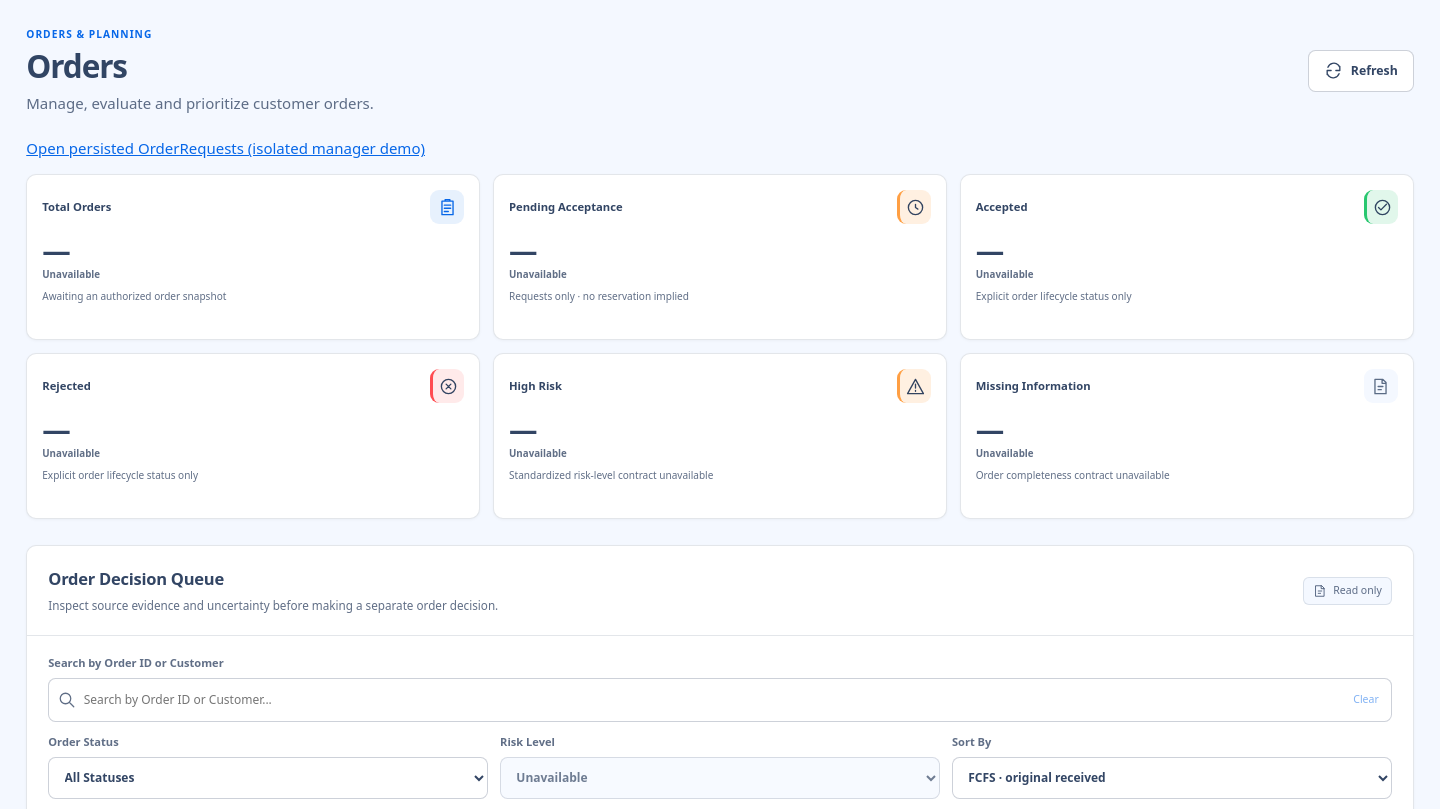
Test: Order Decision Queue › keeps controls usable without fabricating results while the source is unavailable
Type "demo" into the search field labelled "Search by Order ID or Customer" at (713,700), box [84,679,1343,721]
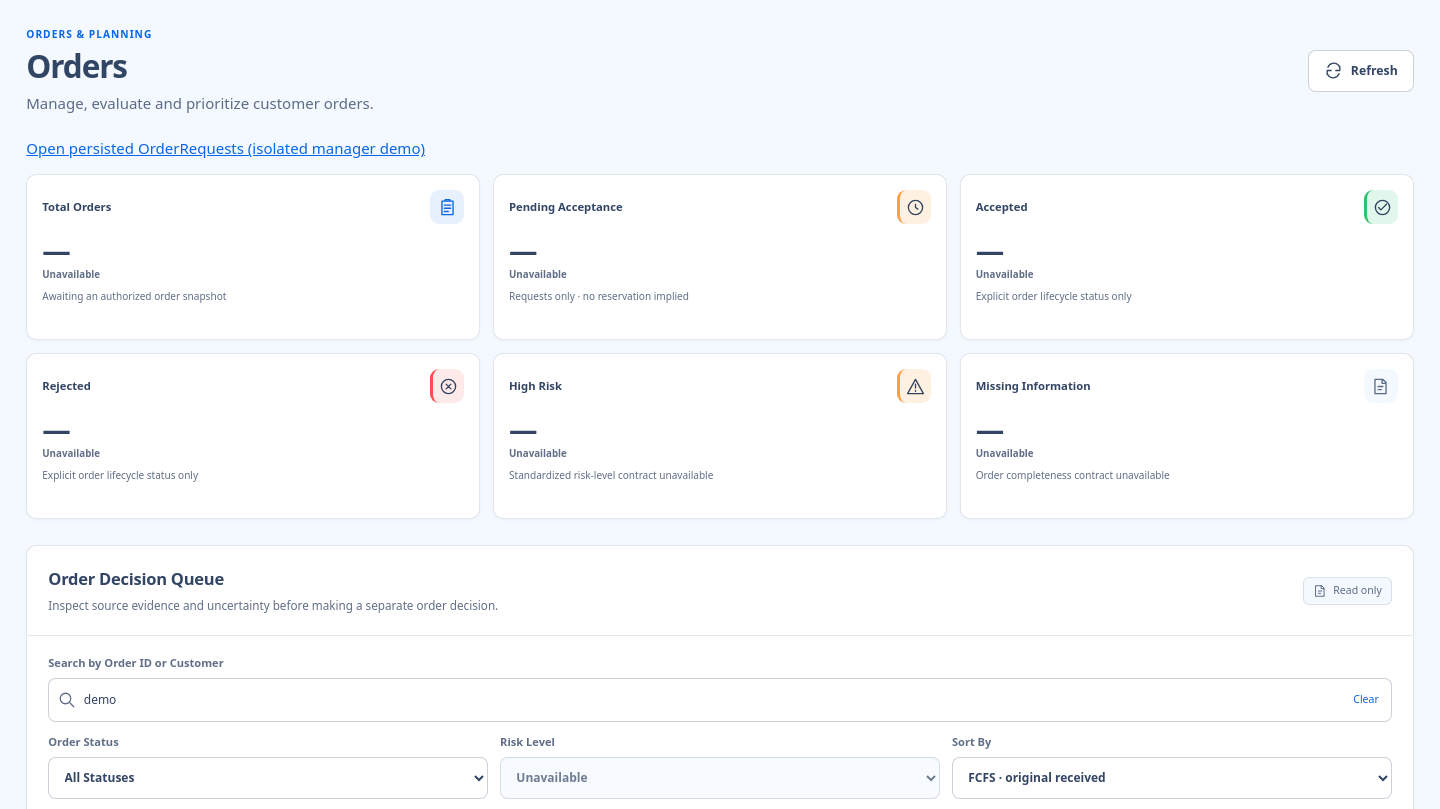
Select "Accepted" in the dropdown labelled "Order Status" at (268,778), box [48,757,488,799]
(page scrolled)
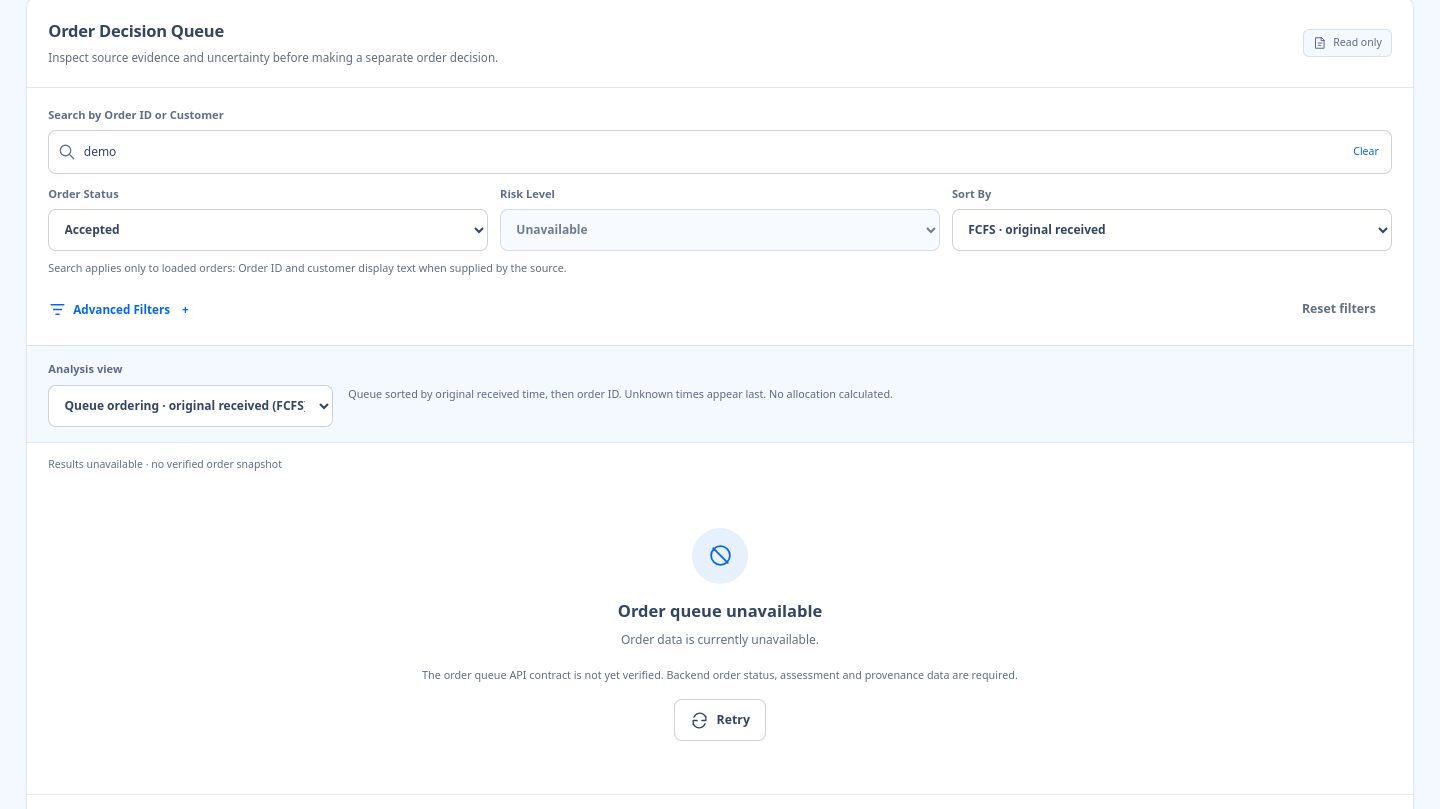
Select "FCFS portfolio" in the dropdown labelled "Analysis view" at (191,406), box [48,384,333,426]
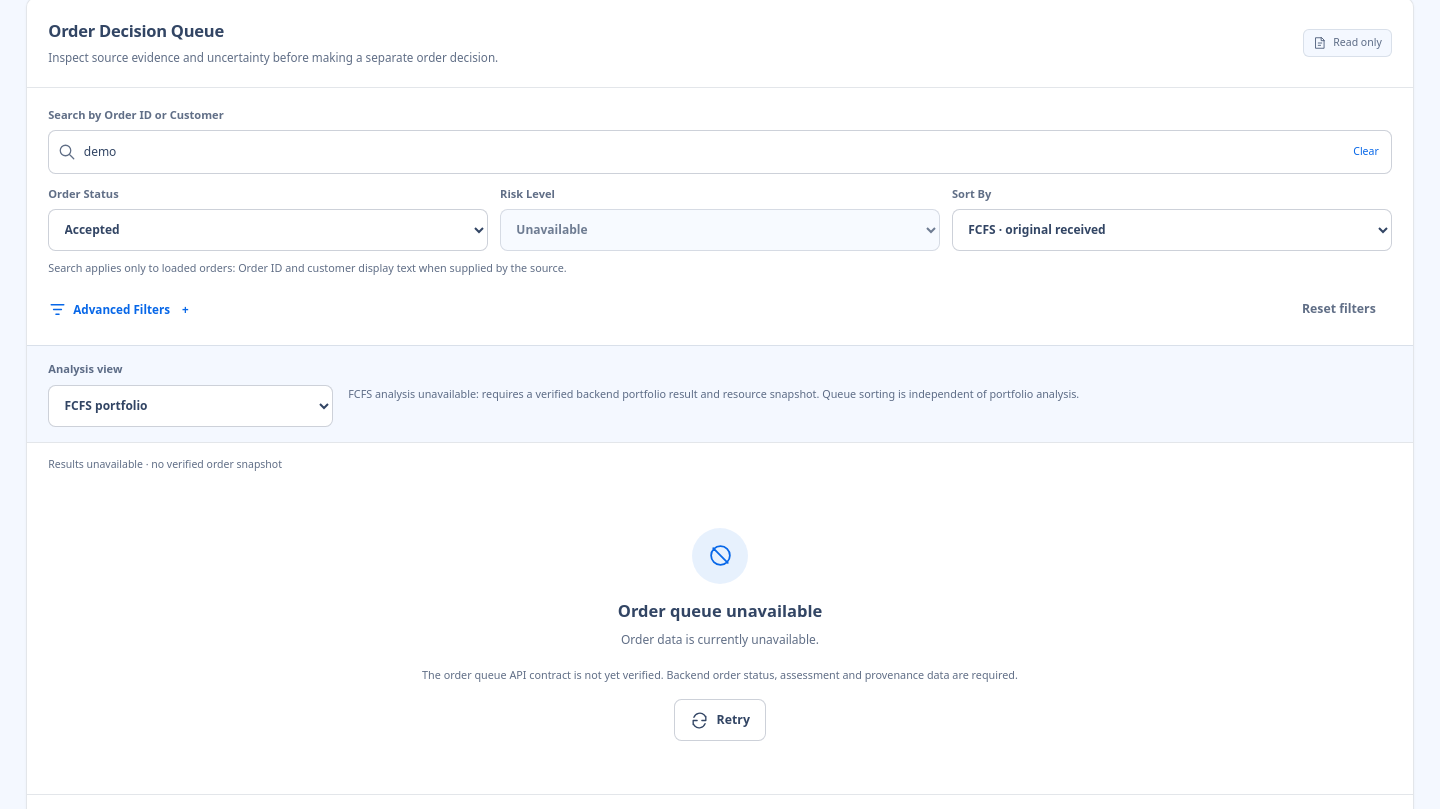
Expected: the message that starts with "Order queue unavailable" is shown, [618,599,822,622]
Click the button with aria-label "Clear search" at (1366,152), box [1350,132,1382,172]
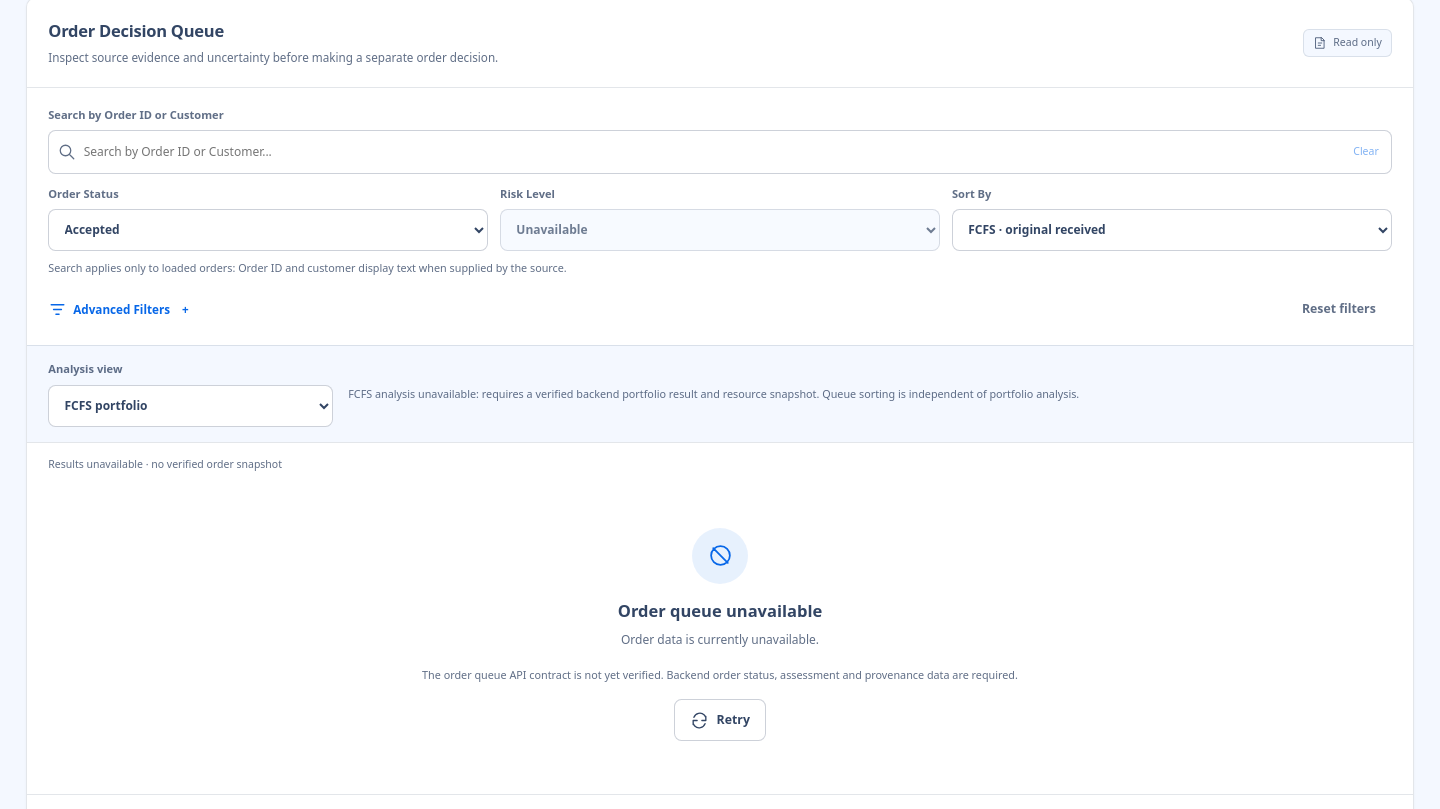
Expected: the search field labelled "Search by Order ID or Customer" is empty, [84,131,1343,173]
